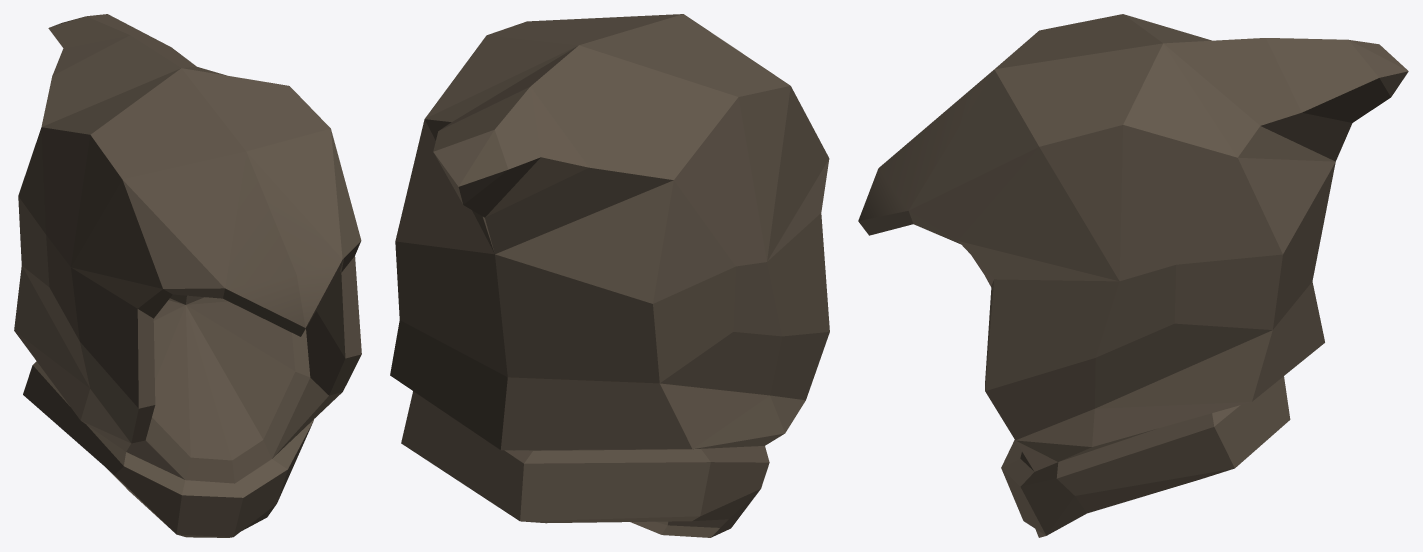
File: Chr_HeadCoverings_No_Hair_08_Static.fbx
3 views of the same model, side by side, from view 1: azimuth 30°, elevation 25°; view 2: azimuth 150°, elevation 25°; view 3: azimuth 270°, elevation 25° (orthographic). The views are drawn at different scales.
Parts seen in each view (by area): view 1: Chr_HeadCoverings_No_Hair_08_Static; view 2: Chr_HeadCoverings_No_Hair_08_Static; view 3: Chr_HeadCoverings_No_Hair_08_Static.
Part boxes in pixels (x1,y1,x2,y2): Chr_HeadCoverings_No_Hair_08_Static: (14, 14, 361, 537); Chr_HeadCoverings_No_Hair_08_Static: (390, 14, 829, 537); Chr_HeadCoverings_No_Hair_08_Static: (858, 14, 1408, 537).
Size of the model in its own units: 0.2796 by 0.4652 by 0.4743.
